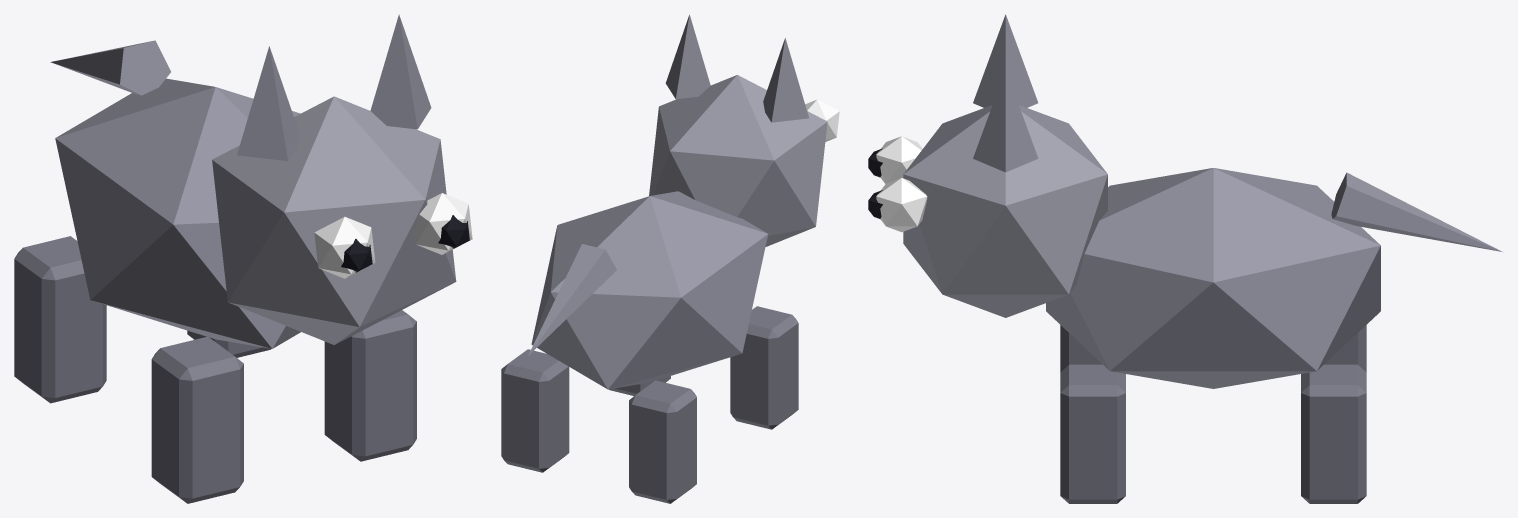
Rendered from GuardWolf.fbx.
3 renders of one model, left to right at view 1: azimuth 30°, elevation 25°; view 2: azimuth 150°, elevation 25°; view 3: azimuth 270°, elevation 25°, orthographic. The views are drawn at different scales.
Visible parts, largest first — view 1: GuardWolf; view 2: GuardWolf; view 3: GuardWolf.
Boxes of the visible parts, x1,y1,x2,y2 form: GuardWolf: (14,14,472,503); GuardWolf: (501,14,839,503); GuardWolf: (868,14,1502,503).
Bounding box in the file's own units: 2.78 × 5.03 × 6.97.
Materials: 1 (1 with a texture image).
